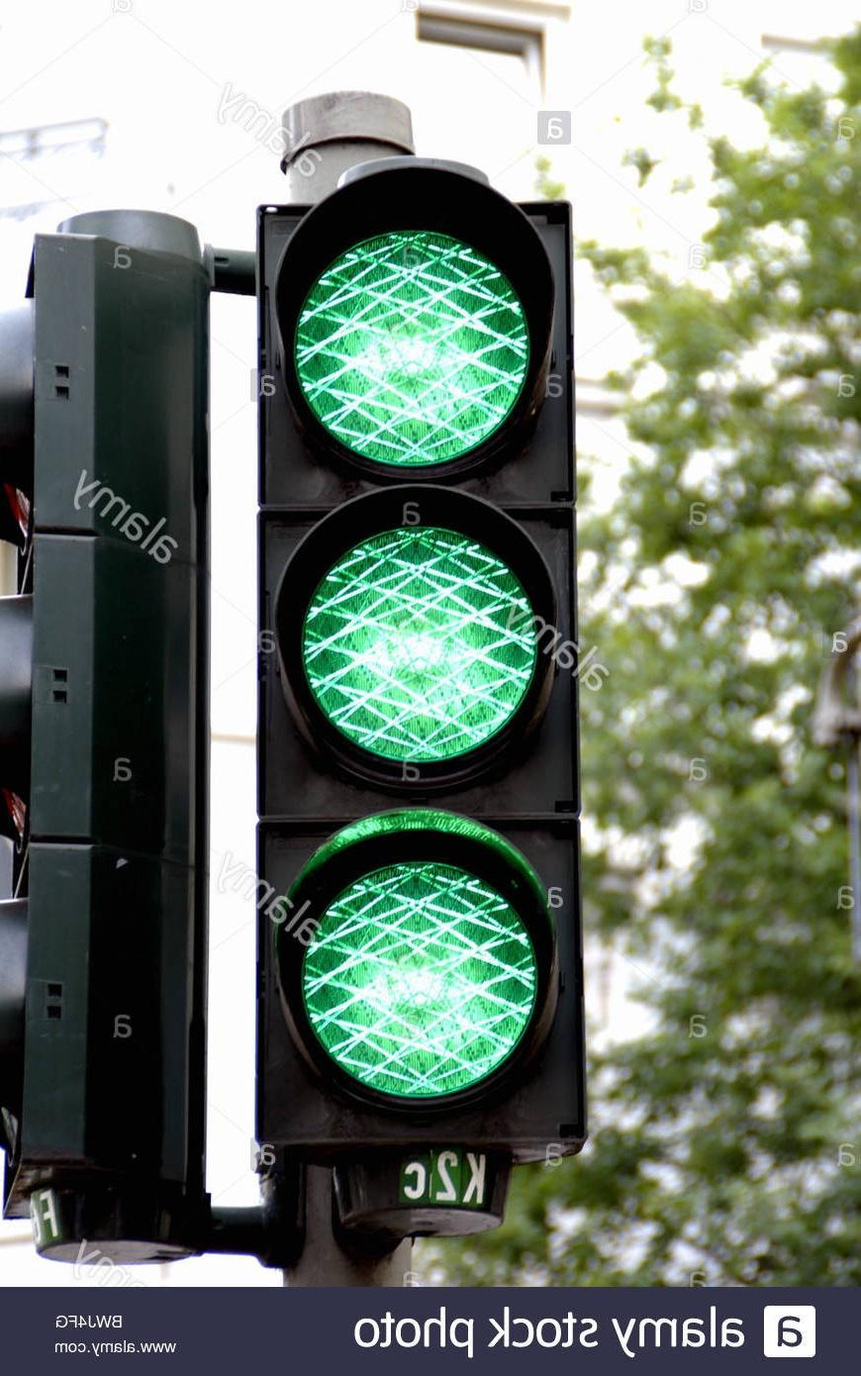green: (244, 175, 614, 1135)
